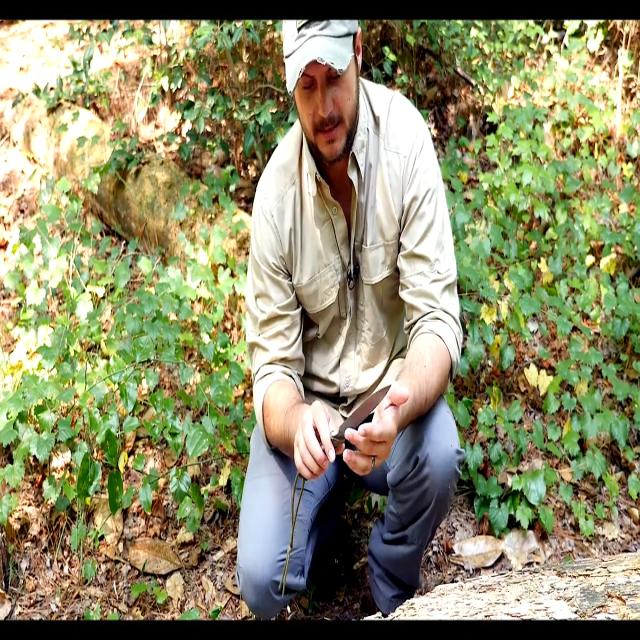knife: (331, 380, 399, 452)
